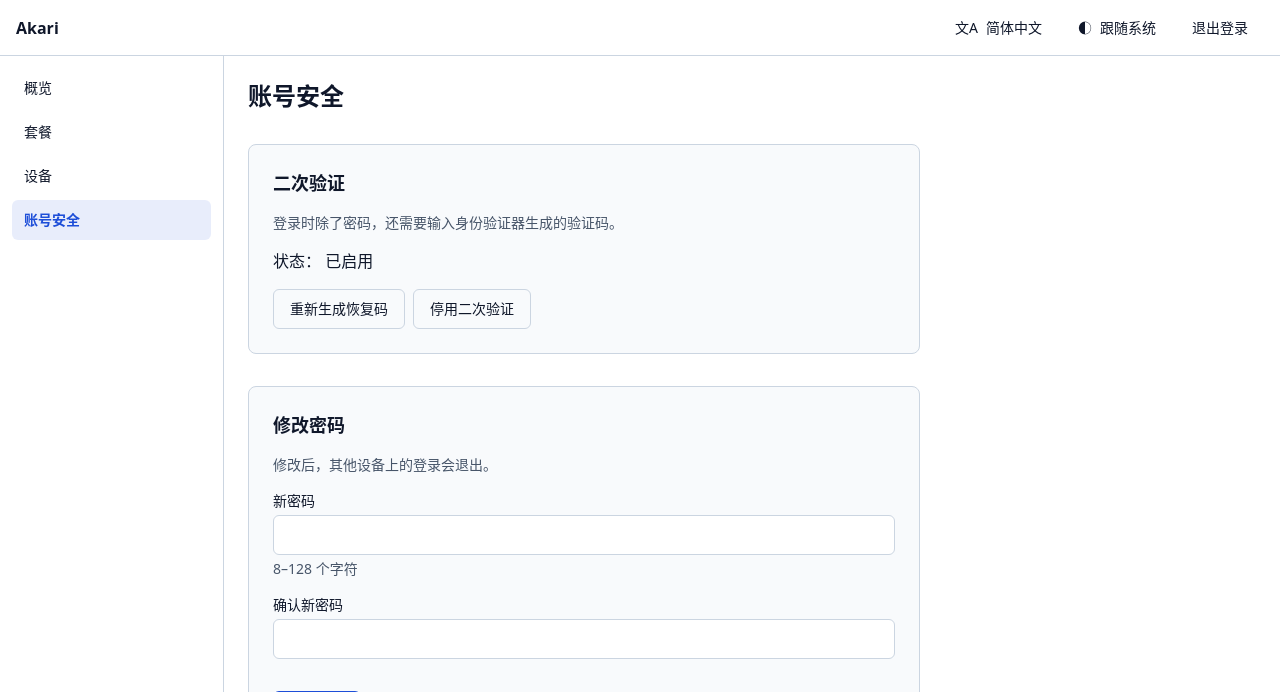
Scenario: 需要重新验证的操作 › 停用前二次确认并说明影响
Click the button "停用二次验证".
click(472, 309)  # box [413,289,531,329]
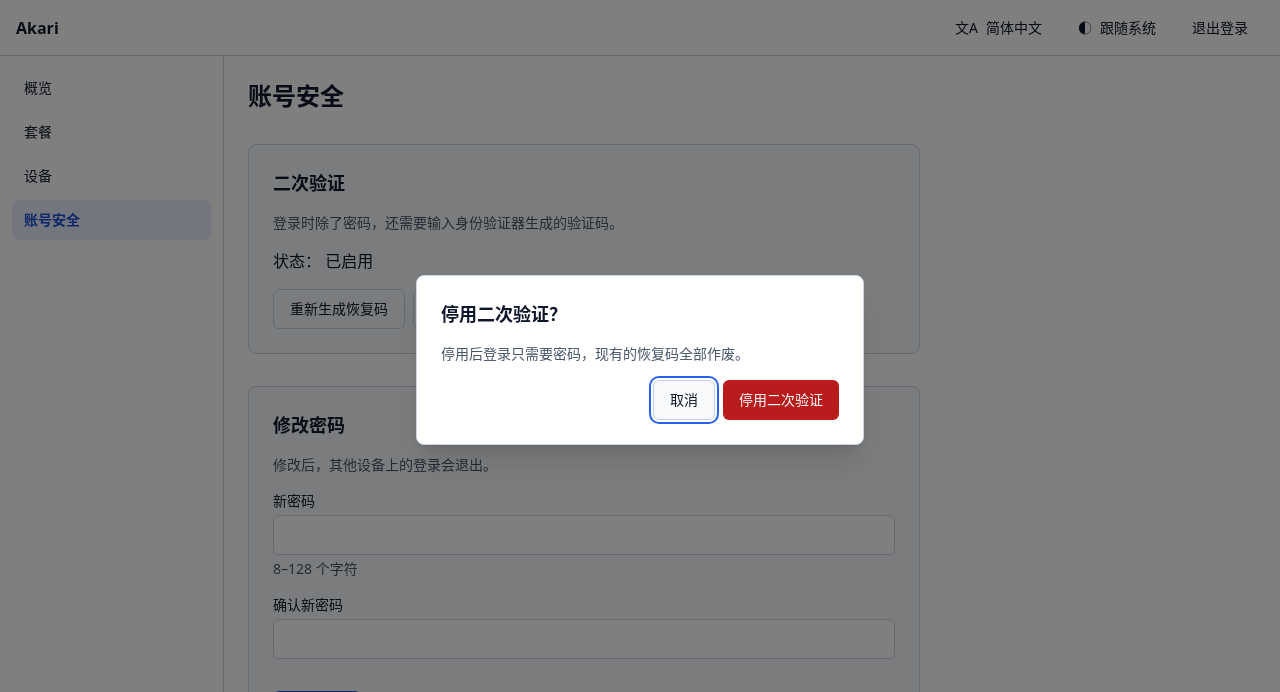
Now the dialog "停用二次验证？" shows "停用后登录只需要密码，现有的恢复码全部作废。", box [441,344,749,363]
Click the button "停用二次验证".
click(781, 400)  # box [723,380,839,420]
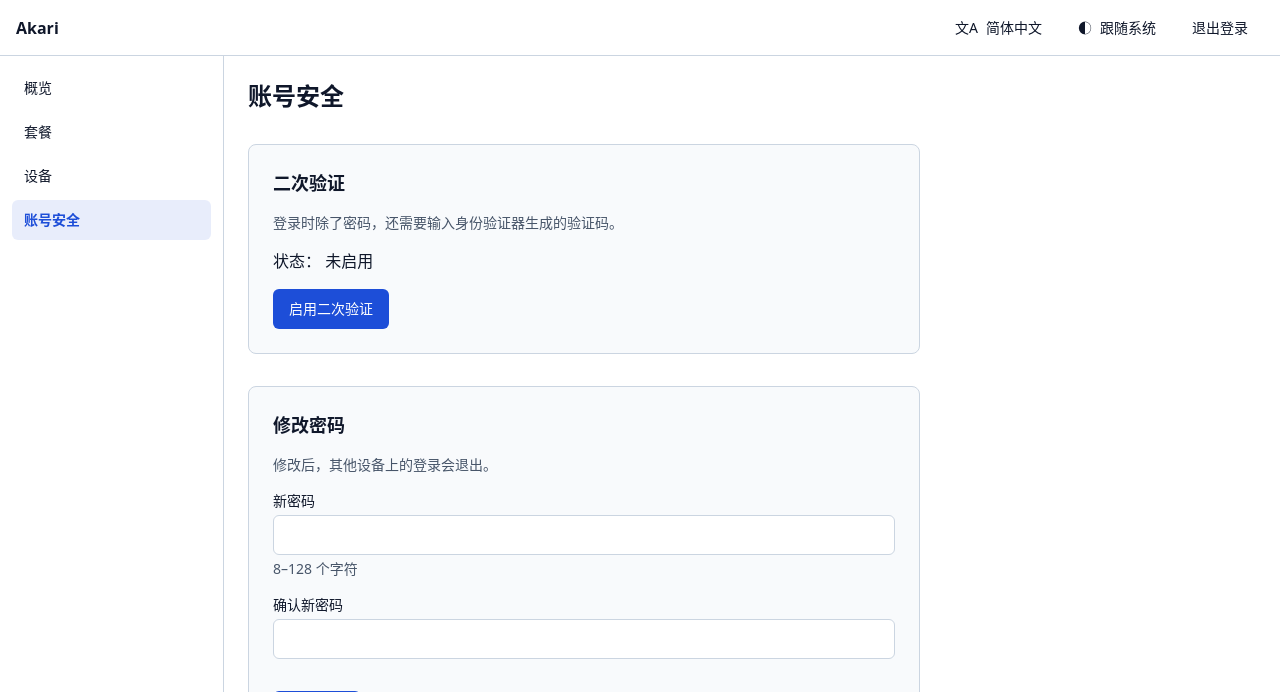
Now the text "未启用" is shown, box [325,250,373,272]
